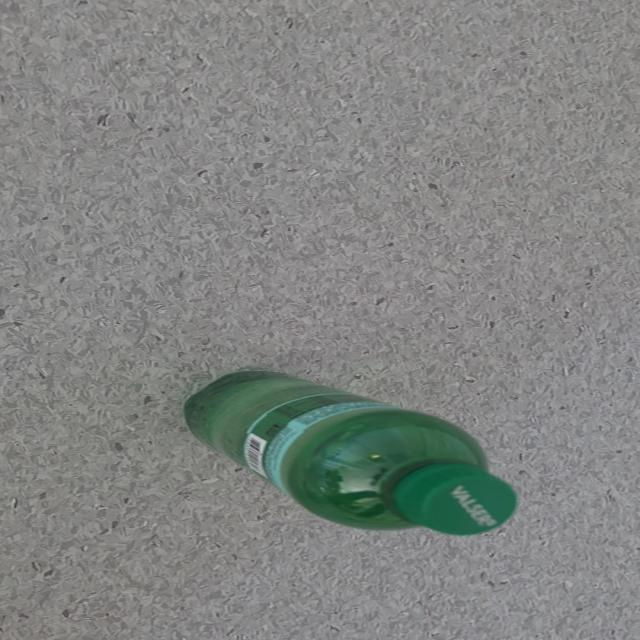bottle: (182, 369, 518, 536)
